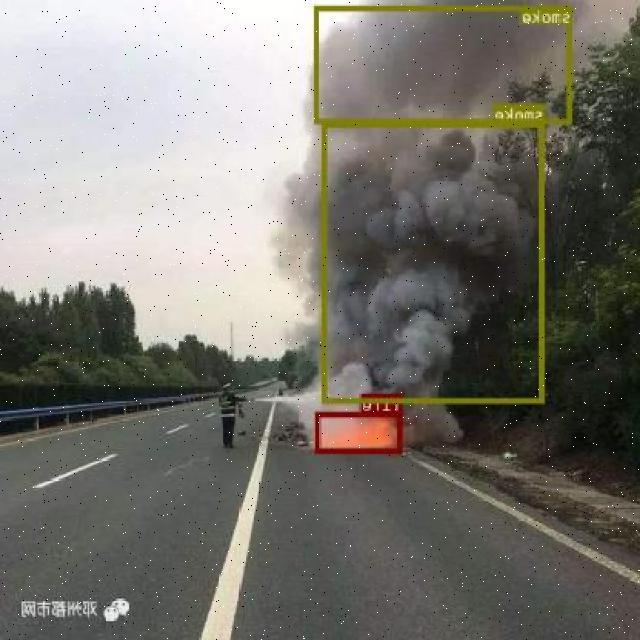smoke: (322, 122, 546, 404), (314, 5, 574, 124)
